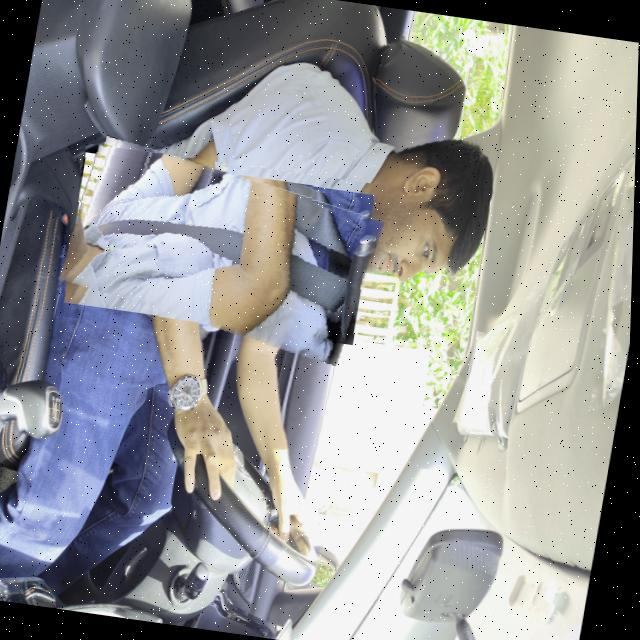seatbelt: (58, 142, 388, 356)
